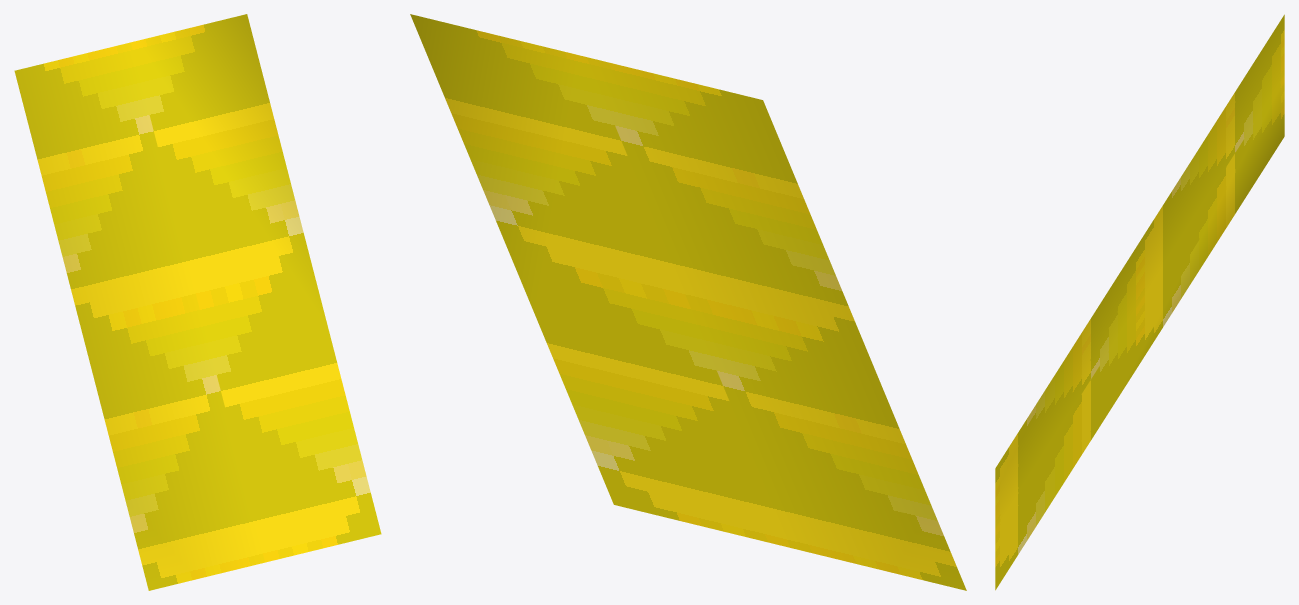
3 renders of one model, left to right at view 1: azimuth 30°, elevation 25°; view 2: azimuth 150°, elevation 25°; view 3: azimuth 270°, elevation 25°, orthographic. The views are drawn at different scales.
Size of the model in its own units: 1 by 1.73 by 1.
1 material, 1 textured.
